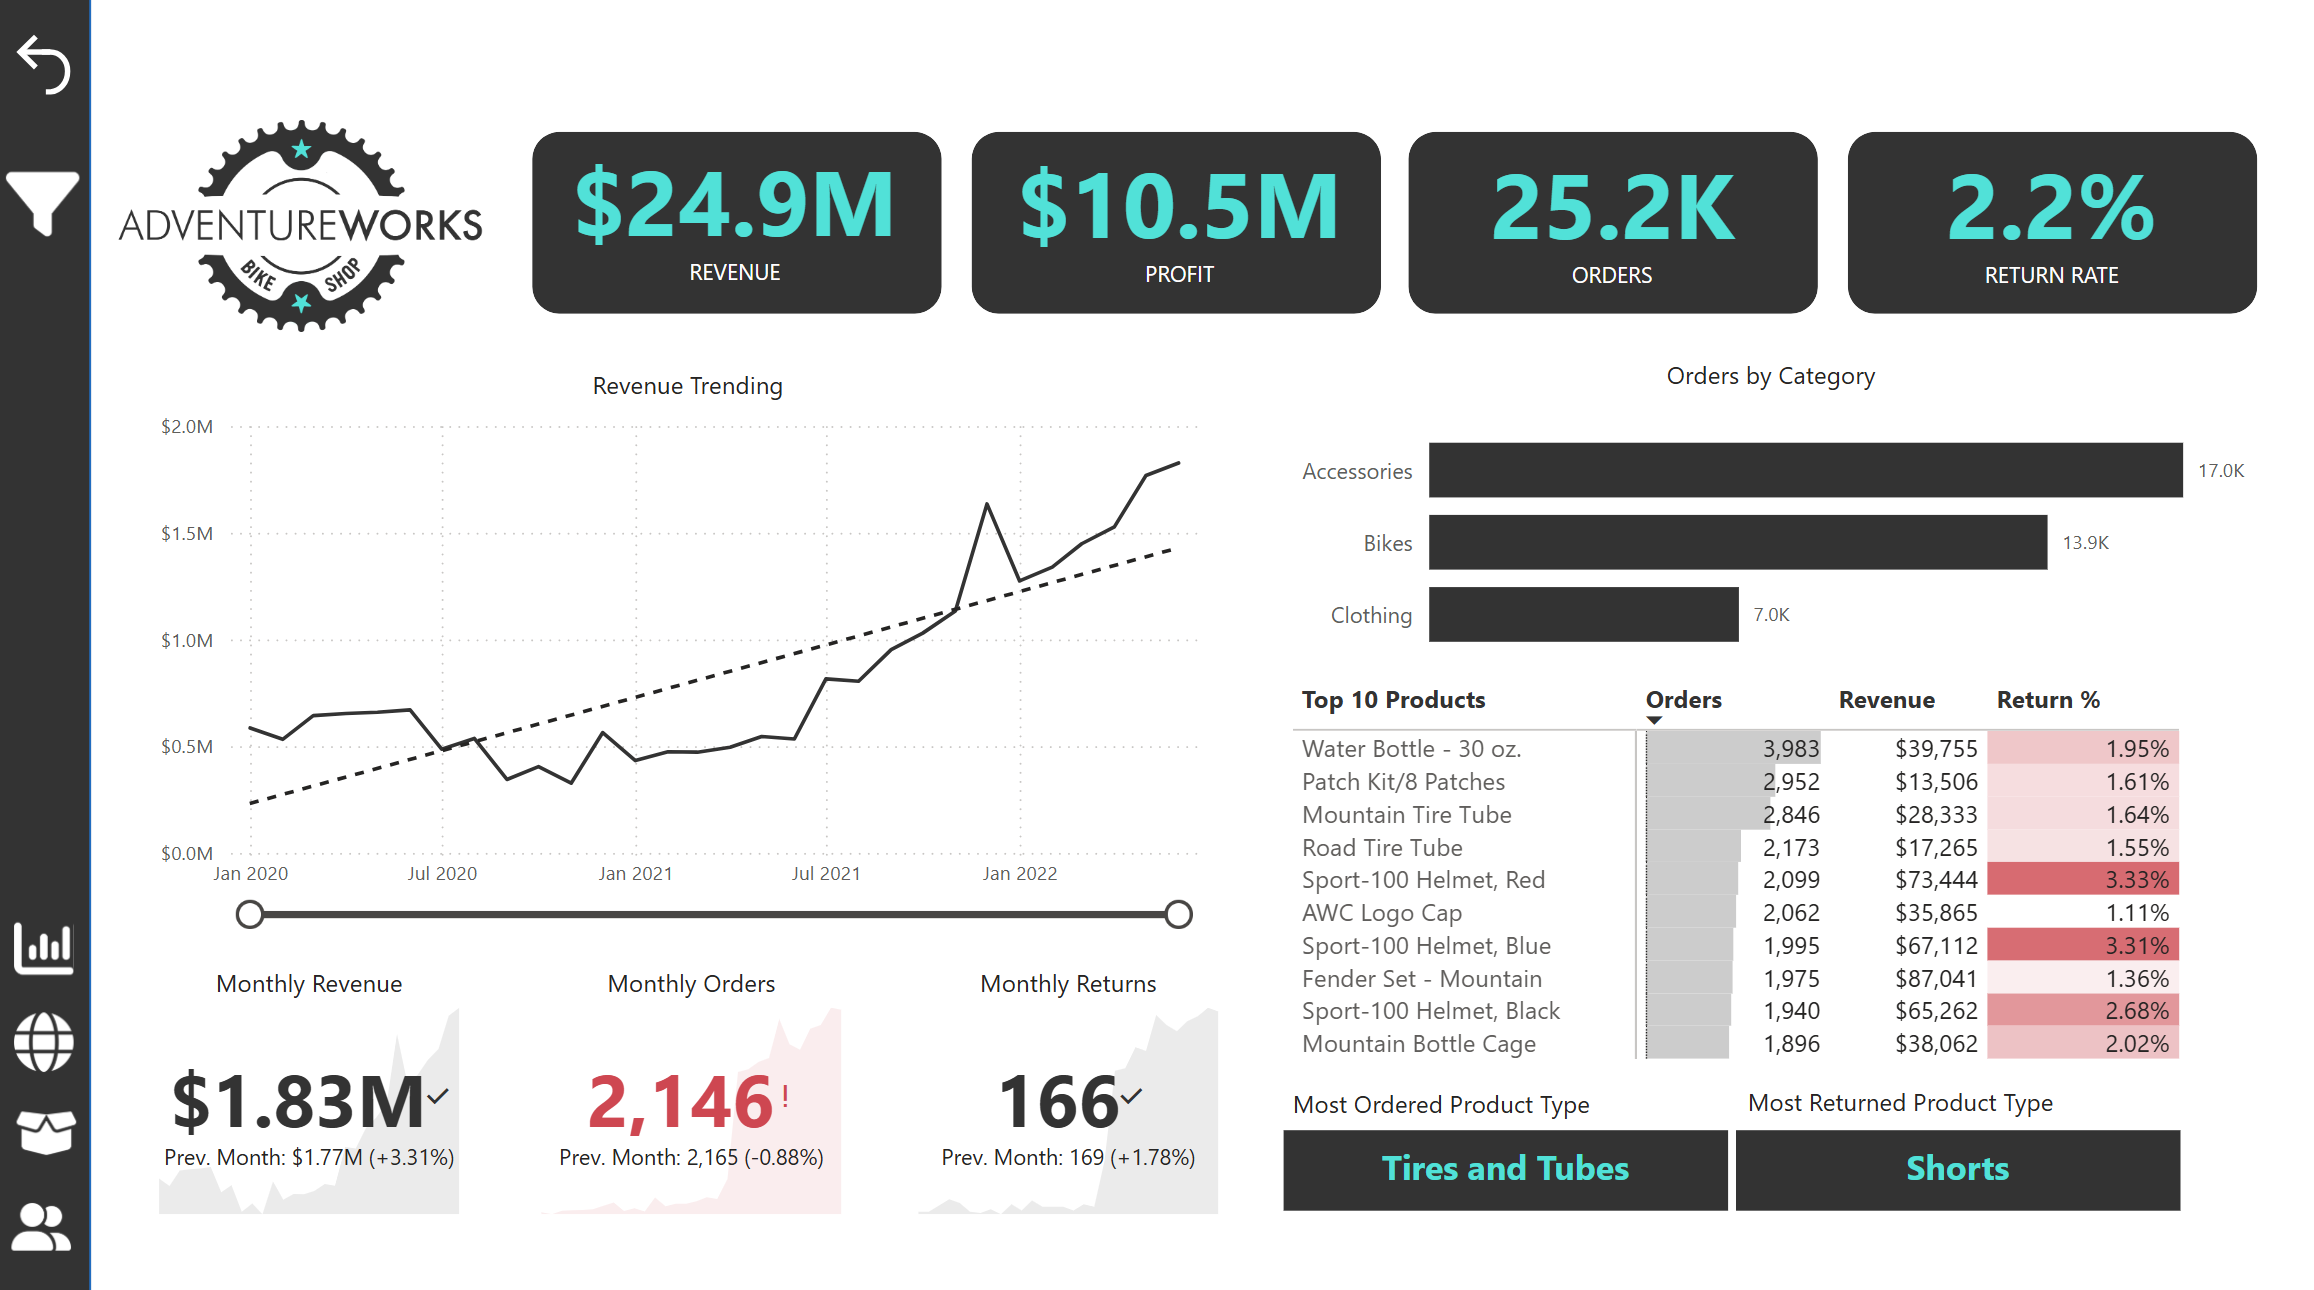

What the dashboard file says about the page in this screenshot:
{"tool":"powerbi","page":{"name":"Exec Dashboard","canvas":[1280,720],"ordinal":0},"visuals":[{"type":"image","title":"AW Logo","box":[41.7,0,255,255],"z":0},{"type":"card","fields":{"Values":["Measure Table.Total Revenue"]},"box":[299,38.3,216.9,162.3],"z":0,"group":"g2"},{"type":"group","id":"g1","title":"KPI Backgrounds","box":[296,75,947.8,100],"z":0,"group":"g3"},{"type":"shape","box":[296,75,225,100],"z":0,"group":"g1"},{"type":"actionButton","box":[6.6,504.8,43.8,40.8],"z":0,"group":"g4"},{"type":"shape","title":"Left Nav Background","box":[0,0,53.3,720],"z":1000},{"type":"group","id":"g2","title":"KPI Values","box":[299,38.3,928.1,162.3],"z":1000,"group":"g3"},{"type":"card","fields":{"Values":["Measure Table.Total Profit"]},"box":[547.8,42.1,208.7,156.2],"z":1000,"group":"g2"},{"type":"shape","box":[536.9,75,225,100],"z":1000,"group":"g1"},{"type":"actionButton","box":[6.6,555.6,43.8,40.8],"z":1000,"group":"g4"},{"type":"group","id":"g3","title":"KPIs","box":[296,38.3,947.8,162.3],"z":2000},{"type":"card","fields":{"Values":["Measure Table.Total Orders"]},"box":[793.8,47.2,192.9,148.6],"z":2000,"group":"g2"},{"type":"shape","box":[777.9,75,225,100],"z":2000,"group":"g1"},{"type":"actionButton","box":[7.4,606.3,43.8,40.8],"z":2000,"group":"g4"},{"type":"card","fields":{"Values":["Measure Table.Return Rate"]},"box":[1034.3,47.2,192.9,148.6],"z":3000,"group":"g2"},{"type":"shape","box":[1018.8,75,225,100],"z":3000,"group":"g1"},{"type":"lineChart","title":"Revenue Trending","fields":{"Y":["Measure Table.Total Revenue"],"Category":["Calendar Lookup.Year","Calendar Lookup.Start of Quarter","Calendar Lookup.Start of Month"]},"box":[86.2,205,591.2,311.2],"z":3000},{"type":"actionButton","box":[5.1,657.1,43.8,40.8],"z":3000,"group":"g4"},{"type":"kpi","title":"Monthly Revenue","fields":{"Indicator":["Measure Table.Total Revenue"],"TrendLine":["Calendar Lookup.Start of Month"],"Goal":["Measure Table.Previous Month Revenue"]},"box":[86.2,533.8,175,141.2],"z":4000},{"type":"kpi","title":"Monthly Orders","fields":{"TrendLine":["Calendar Lookup.Start of Month"],"Indicator":["Measure Table.Total Orders"],"Goal":["Measure Table.Previous Month Orders"]},"box":[295,533.8,175,141.2],"z":5000},{"type":"kpi","title":"Monthly Returns","fields":{"TrendLine":["Calendar Lookup.Start of Month"],"Indicator":["Measure Table.Total Returns"],"Goal":["Measure Table.Previous Month Returns"]},"box":[502.5,533.8,175,141.2],"z":6000},{"type":"clusteredBarChart","title":"Orders by Category","fields":{"Category":["Product Categories Lookup.CategoryName"],"Y":["Measure Table.Total Orders"]},"box":[708.6,200,535.7,178.6],"z":7000},{"type":"pivotTable","fields":{"Rows":["Product Categories Lookup.CategoryName","Product Lookup.ProductName"],"Values":["Measure Table.Total Orders","Measure Table.Total Revenue","Measure Table.Return Rate"]},"box":[708.6,372.9,534.3,221.4],"z":8000},{"type":"card","fields":{"Values":["Min(Product Subcategories Lookup.SubcategoryName)"]},"box":[708.6,624.3,244.3,44.3],"z":9000},{"type":"textbox","box":[708.6,595.7,181.4,28.6],"z":10000},{"type":"card","fields":{"Values":["Min(Product Subcategories Lookup.SubcategoryName)"]},"box":[957.6,623.8,244.3,44.3],"z":11000},{"type":"textbox","box":[958.6,594.3,190,30],"z":12000},{"type":"actionButton","box":[5,13.8,43.8,49.2],"z":13000},{"type":"group","id":"g4","title":"Navigation Buttons","box":[5.1,504.8,46.2,193.1],"z":14000},{"type":"actionButton","box":[0,91,53.3,48.6],"z":15000}]}

Visuals, with their boxes on the page's 1280x720 design canvas (x1, y1, x2, y2). These are canvas units, not pixel positions in the 2314x1290 screenshot, which may show the page scaled, cropped or inside an application window:
"AW Logo" image: (x1=42, y1=0, x2=297, y2=255)
card - Measure Table.Total Revenue: (x1=299, y1=38, x2=516, y2=201)
"KPI Backgrounds" group: (x1=296, y1=75, x2=1244, y2=175)
shape: (x1=296, y1=75, x2=521, y2=175)
actionButton: (x1=7, y1=505, x2=50, y2=546)
"Left Nav Background" shape: (x1=0, y1=0, x2=53, y2=720)
"KPI Values" group: (x1=299, y1=38, x2=1227, y2=201)
card - Measure Table.Total Profit: (x1=548, y1=42, x2=756, y2=198)
shape: (x1=537, y1=75, x2=762, y2=175)
actionButton: (x1=7, y1=556, x2=50, y2=596)
"KPIs" group: (x1=296, y1=38, x2=1244, y2=201)
card - Measure Table.Total Orders: (x1=794, y1=47, x2=987, y2=196)
shape: (x1=778, y1=75, x2=1003, y2=175)
actionButton: (x1=7, y1=606, x2=51, y2=647)
card - Measure Table.Return Rate: (x1=1034, y1=47, x2=1227, y2=196)
shape: (x1=1019, y1=75, x2=1244, y2=175)
"Revenue Trending" lineChart: (x1=86, y1=205, x2=677, y2=516)
actionButton: (x1=5, y1=657, x2=49, y2=698)
"Monthly Revenue" kpi: (x1=86, y1=534, x2=261, y2=675)
"Monthly Orders" kpi: (x1=295, y1=534, x2=470, y2=675)
"Monthly Returns" kpi: (x1=502, y1=534, x2=678, y2=675)
"Orders by Category" clusteredBarChart: (x1=709, y1=200, x2=1244, y2=379)
pivotTable - Product Categories Lookup.CategoryName x Product Lookup.ProductName: (x1=709, y1=373, x2=1243, y2=594)
card - Min(Product Subcategories Lookup.SubcategoryName): (x1=709, y1=624, x2=953, y2=669)
textbox: (x1=709, y1=596, x2=890, y2=624)
card - Min(Product Subcategories Lookup.SubcategoryName): (x1=958, y1=624, x2=1202, y2=668)
textbox: (x1=959, y1=594, x2=1149, y2=624)
actionButton: (x1=5, y1=14, x2=49, y2=63)
"Navigation Buttons" group: (x1=5, y1=505, x2=51, y2=698)
actionButton: (x1=0, y1=91, x2=53, y2=140)
